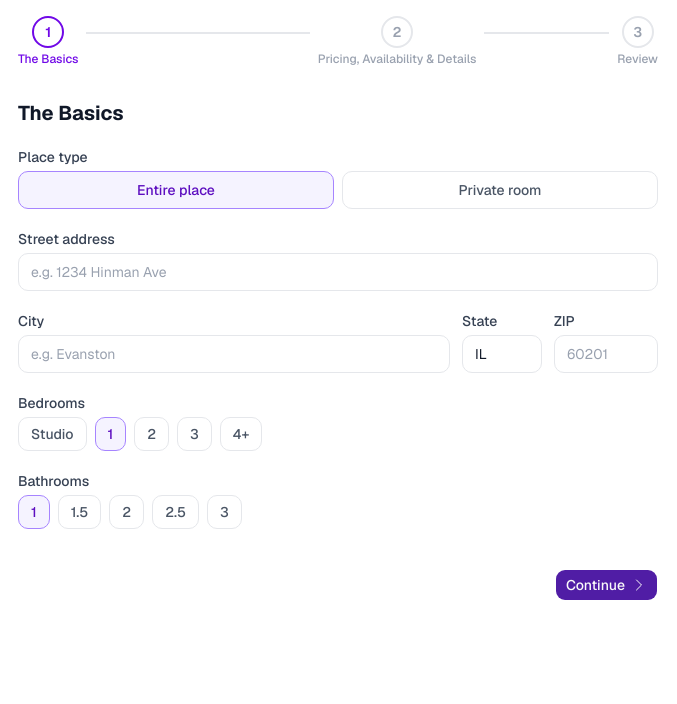
Scenario: ListingForm › filling required step 1 fields and clicking Continue advances to step 2
Type "1234 Hinman Ave" into the field with placeholder "e.g. 1234 Hinman Ave" at (338, 272), box [18, 253, 658, 291]
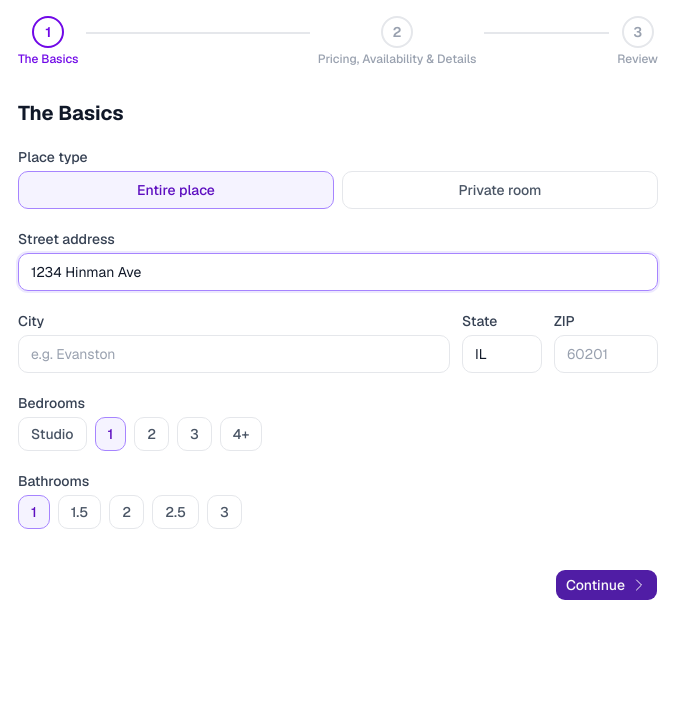
Type "Evanston" into the field with placeholder "e.g. Evanston" at (234, 354), box [18, 335, 450, 373]
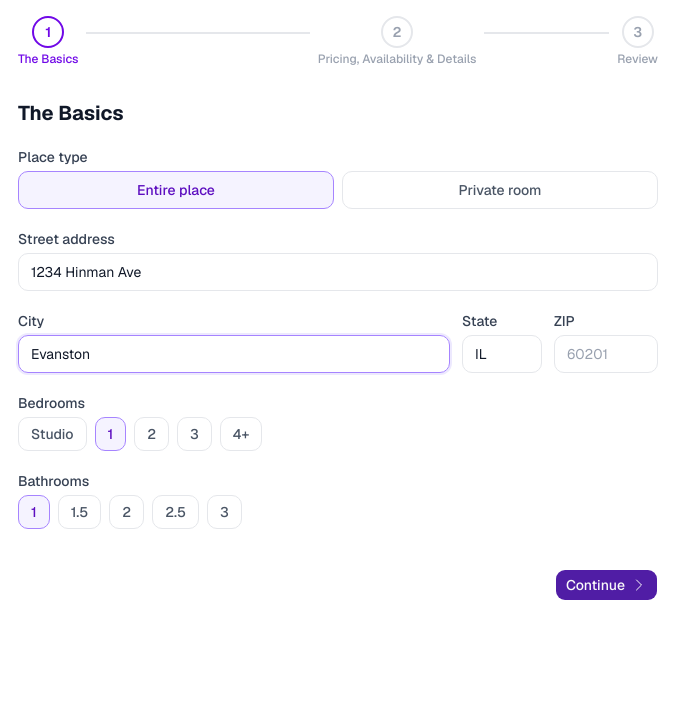
Type "60202" into the field with placeholder "60201" at (606, 354), box [554, 335, 658, 373]
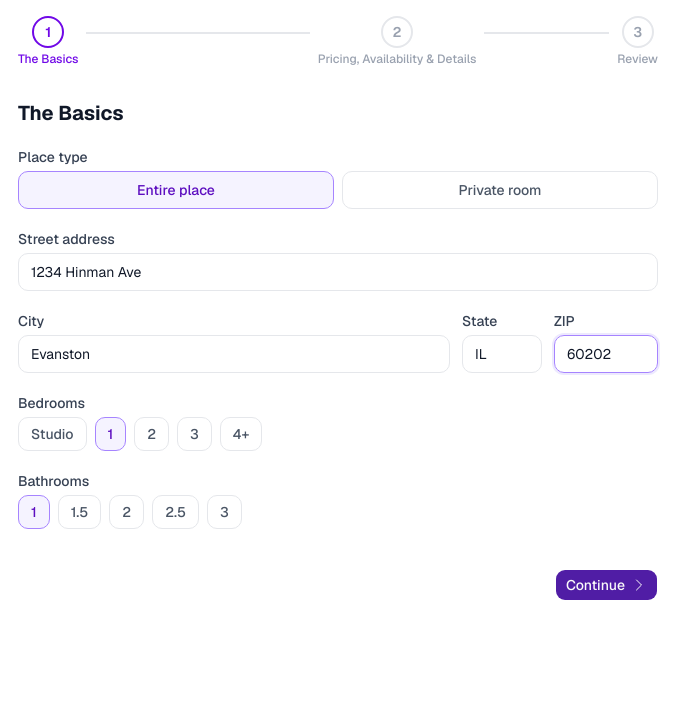
Click the button "Continue" at (606, 585), box [555, 569, 658, 601]
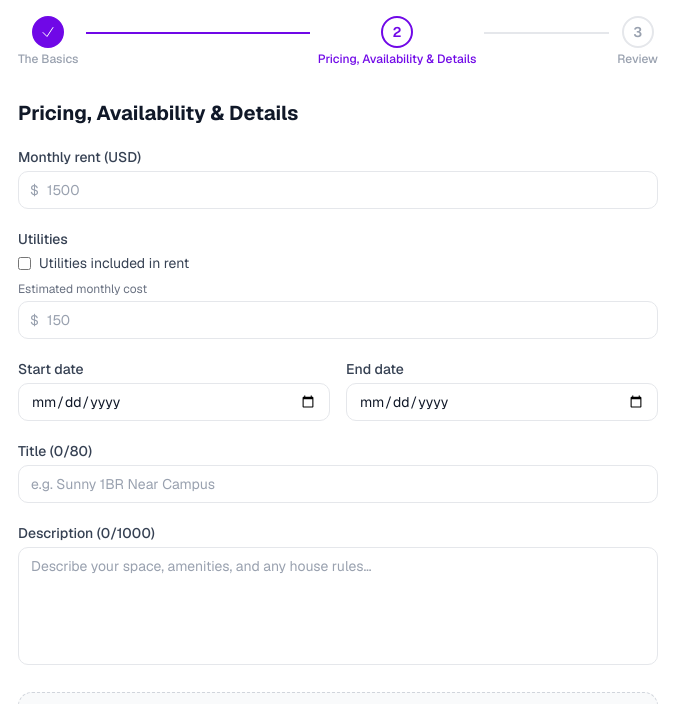
Now the heading "Pricing, Availability & Details" is shown, box [18, 100, 298, 126]
